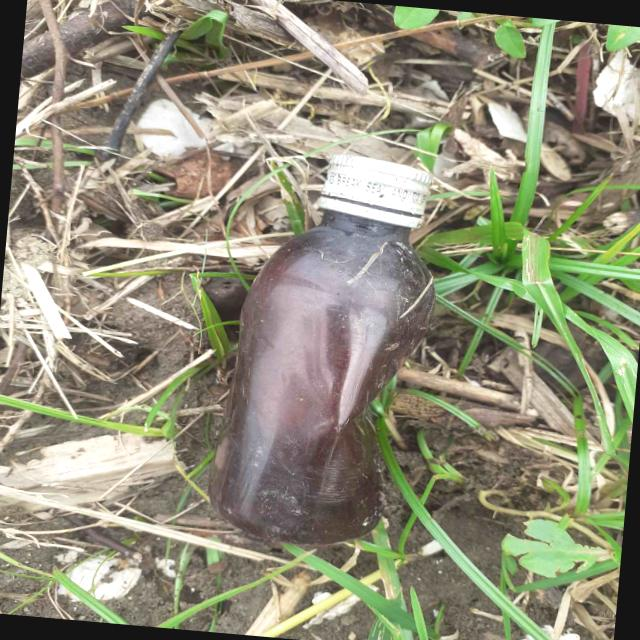chai_thuy_tinh: (210, 154, 433, 545)
